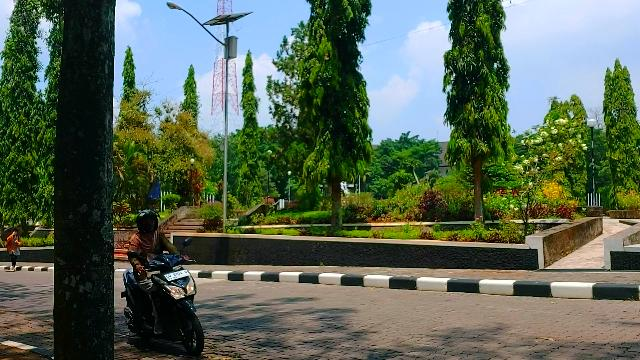helm: (136, 210, 162, 236)
motor: (121, 236, 206, 358)
